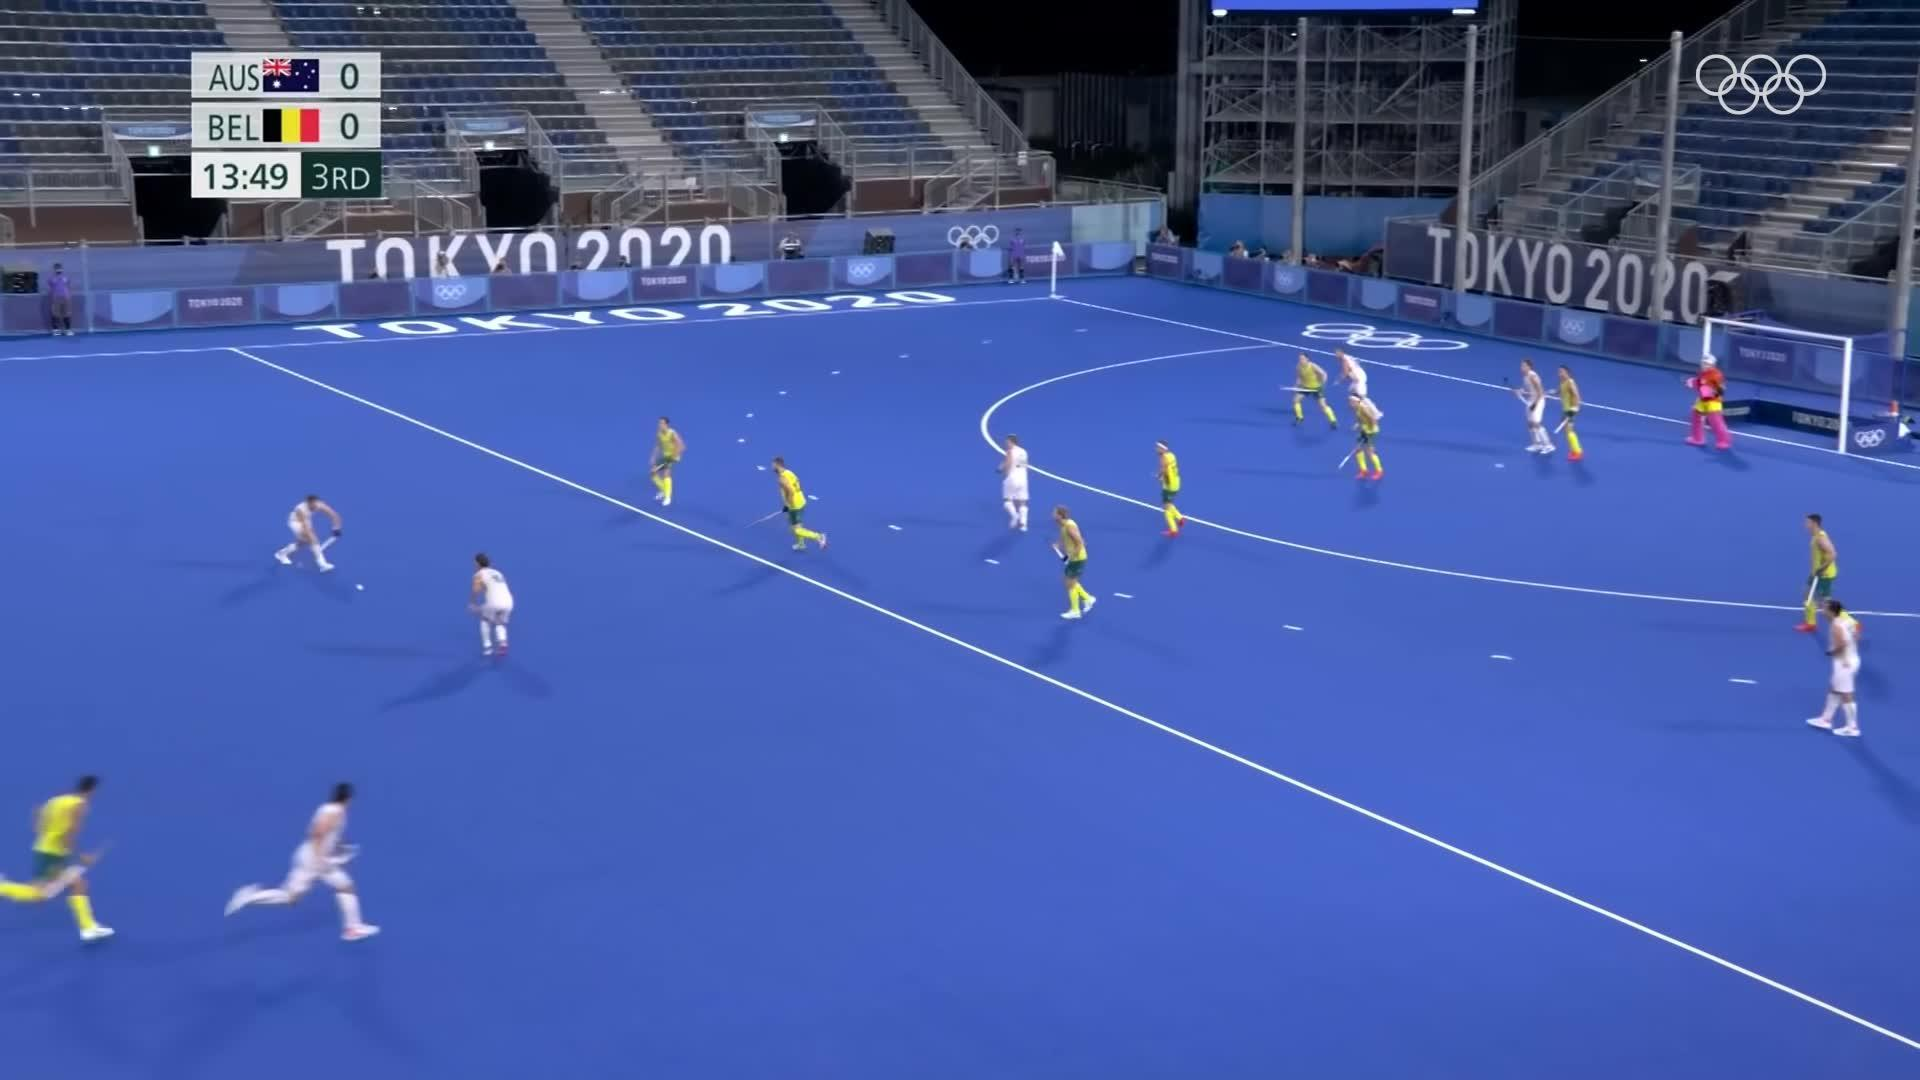ball: (349, 579, 369, 595)
